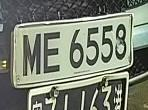5: (84, 24, 100, 68), (100, 22, 114, 65)
6: (69, 29, 84, 69)
8: (114, 19, 127, 64)
E: (43, 29, 65, 77)
M: (20, 30, 44, 83)
